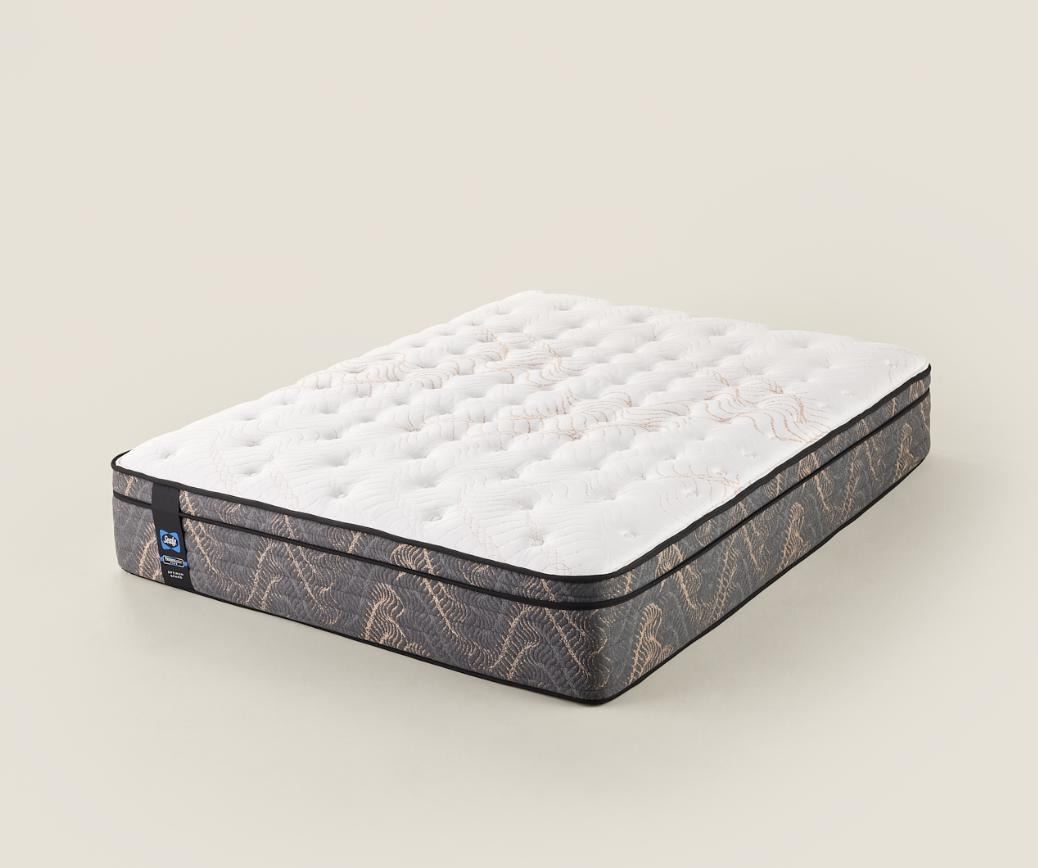Bed-Mattress: (100, 284, 944, 718)
